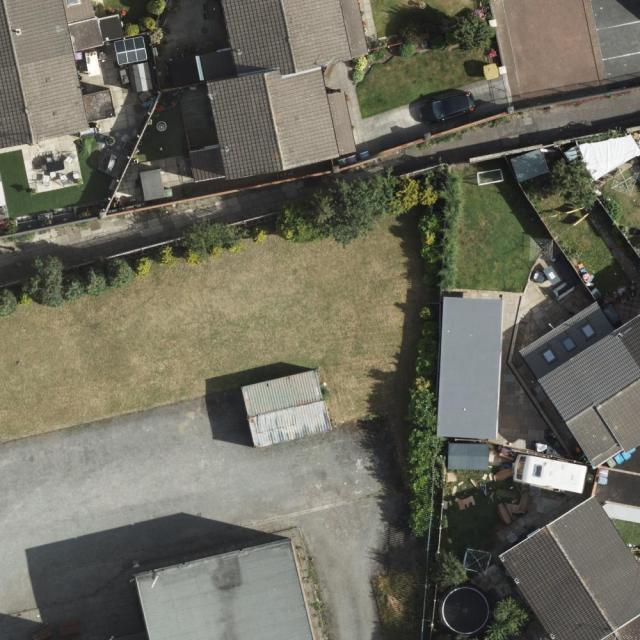roof: (191, 0, 367, 186), (497, 495, 640, 640), (518, 302, 640, 470), (132, 536, 315, 640), (0, 0, 125, 150), (438, 296, 506, 439), (239, 366, 334, 450)
skylight: (537, 346, 558, 366), (580, 322, 598, 340), (561, 335, 576, 351)
